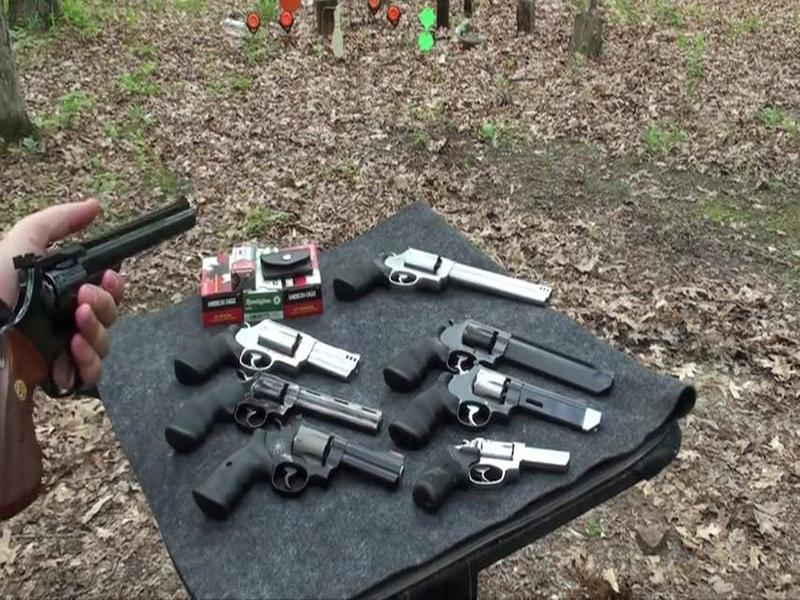Revolver: (1, 187, 220, 549)
